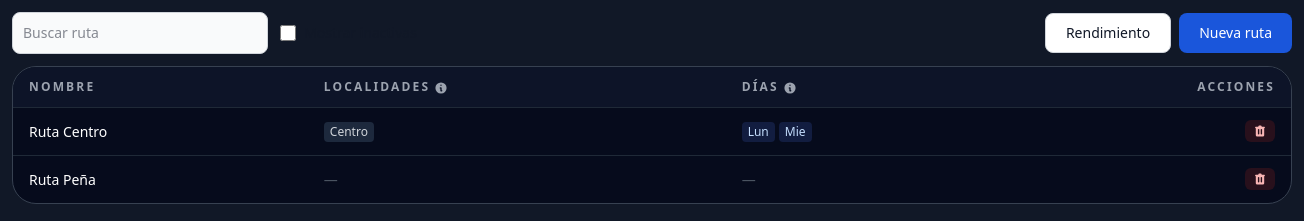
Test: RoutesTab › filtra rutas por nombre sin acentos
This screenshot has width=1304, height=221.
Type "pena" into the field with placeholder "Buscar ruta" at [140, 33], box [12, 12, 268, 54]
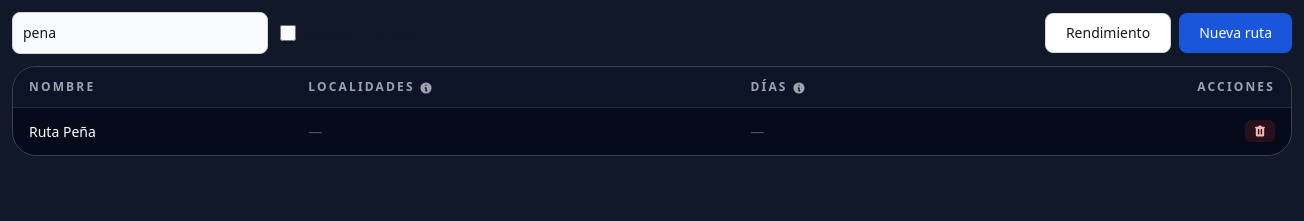
Expected: the text "Ruta Peña" is shown, [29, 122, 96, 142]
Expected: the text "Ruta Centro" is gone
